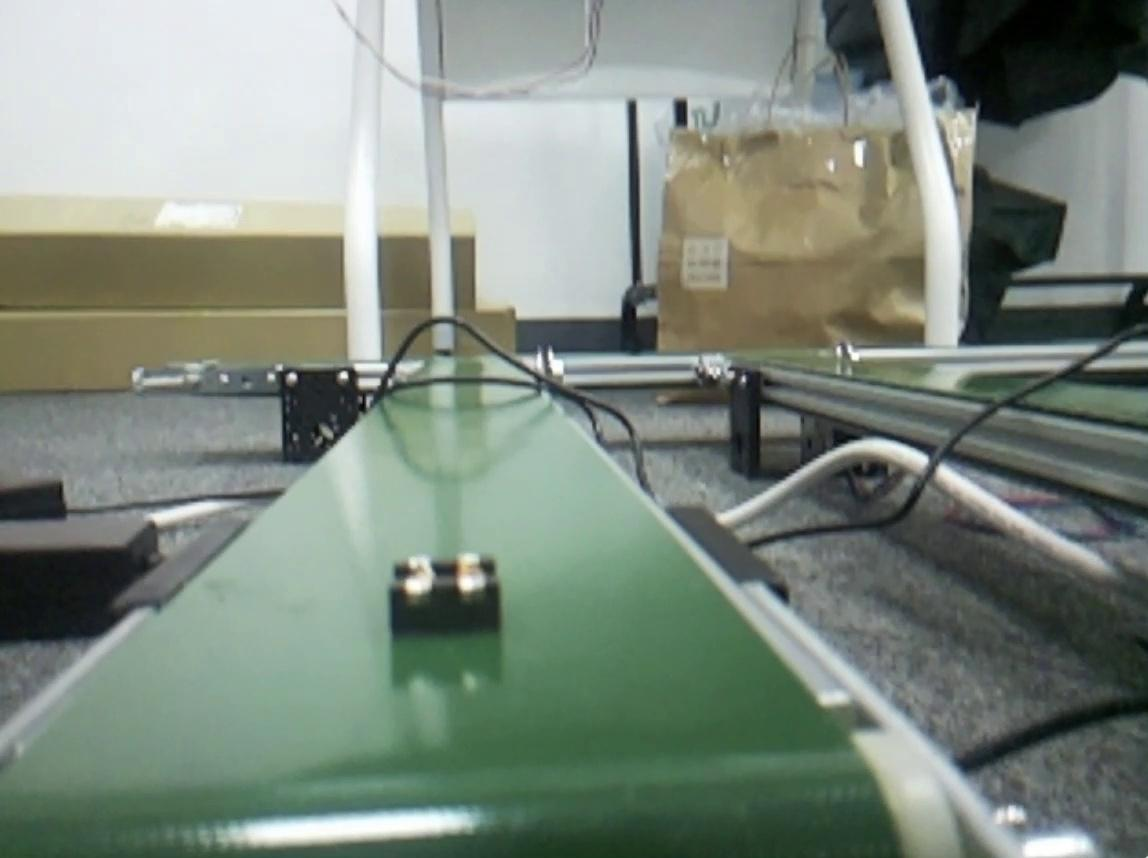inductor: (392, 550, 502, 629)
